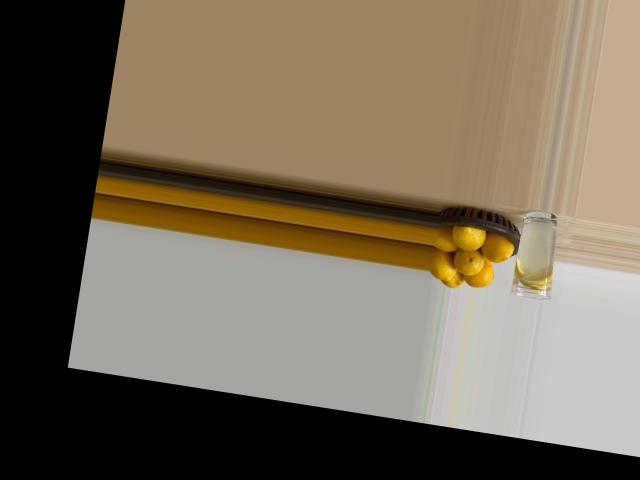lemon: (427, 246, 462, 286)
